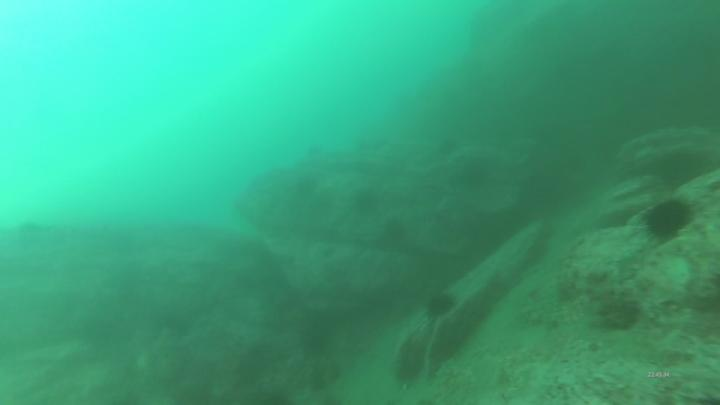echinus: (640, 197, 696, 244), (424, 291, 458, 323), (381, 213, 412, 244), (352, 185, 381, 216), (296, 171, 322, 197)
